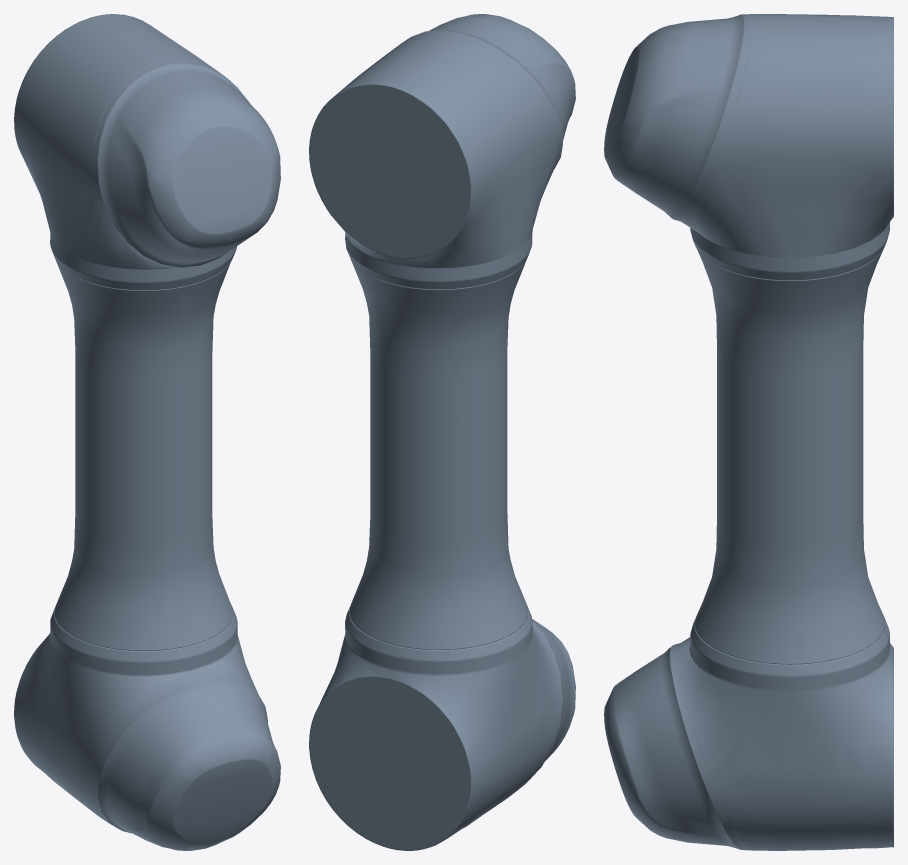
The model's file is DoosanA0509S_j1.gltf.
The picture shows the model from 3 angles, left to right: view 1: azimuth 30°, elevation 25°; view 2: azimuth 150°, elevation 25°; view 3: azimuth 270°, elevation 25°; orthographic projection. The views are drawn at different scales.
Visible parts, largest first — view 1: Fusion001; view 2: Fusion001; view 3: Fusion001.
Part boxes in pixels (box(x1,y1,x2,y2)): Fusion001: box(14, 14, 280, 850); Fusion001: box(309, 14, 575, 850); Fusion001: box(604, 14, 893, 850).
Size of the model in its own units: 0.122 by 0.5302 by 0.1704.
